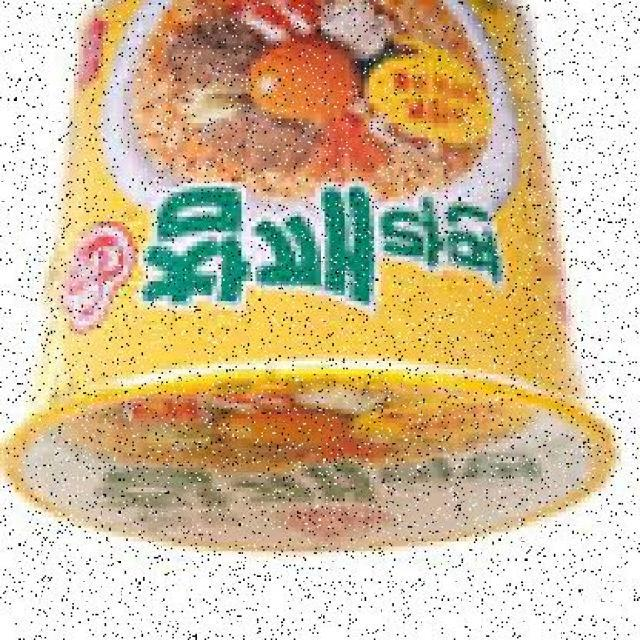Miscellaneous: (0, 0, 615, 541)
